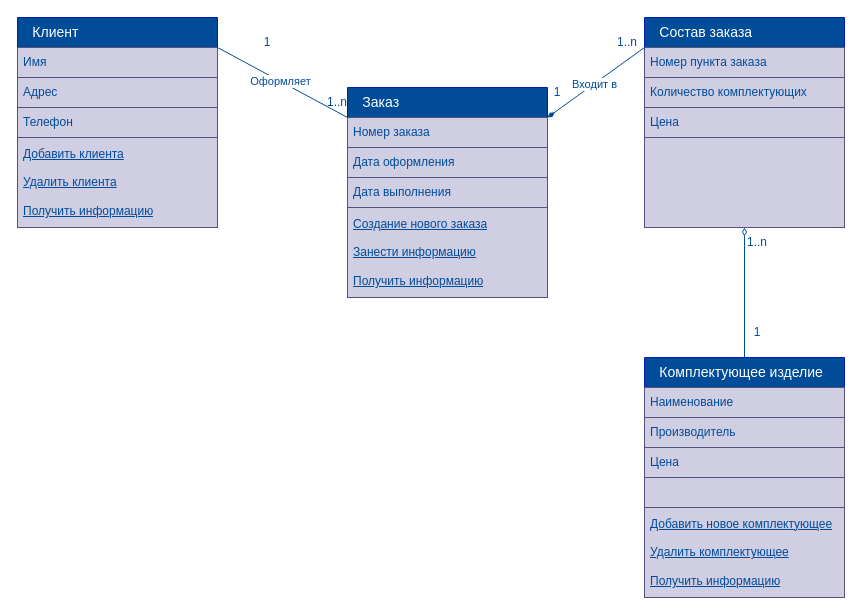
This 862x615 diagram has some shape labels left out. Each missing label, with the centre of its shape:
"Описание" goes at point (744, 492).
"Создать строку заказа Добавить информацию Получить информацию" goes at point (744, 182).
